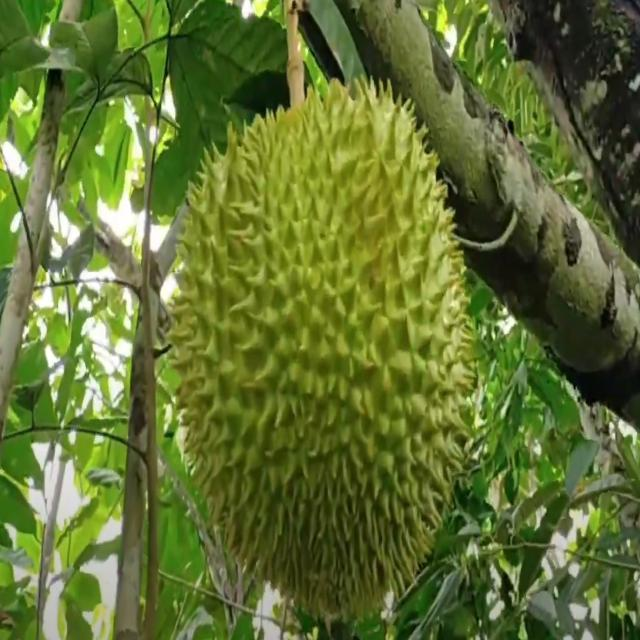immature: (163, 70, 477, 636)
